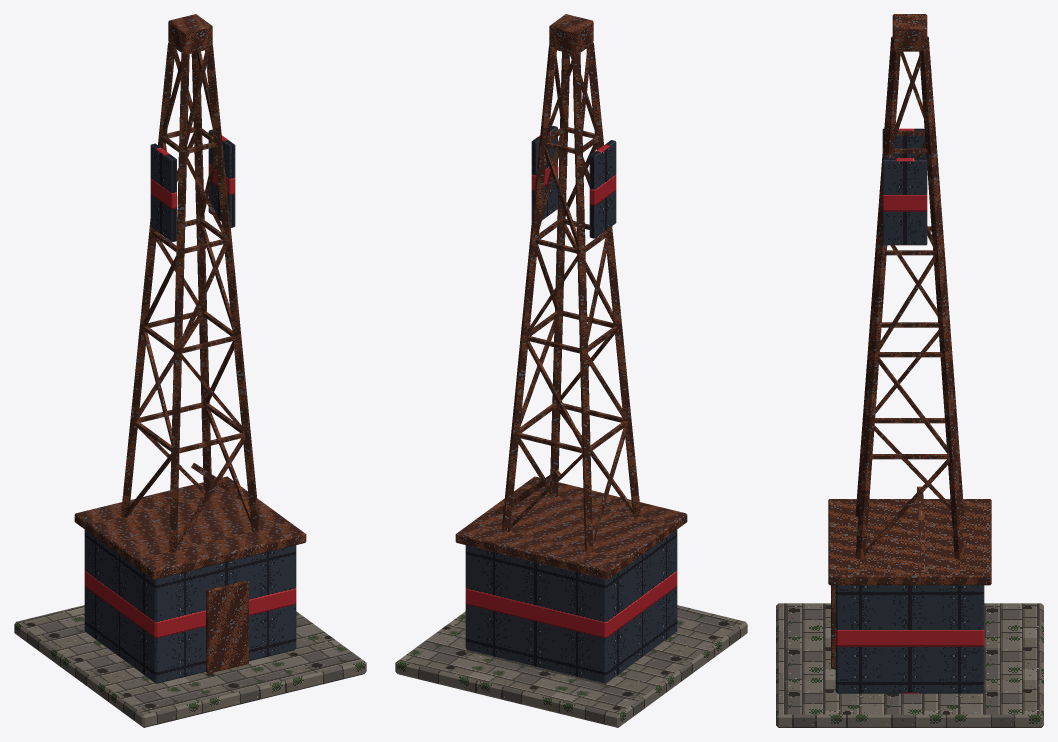
File: furia_antenna.glb
3 views of the same model, side by side, from view 1: azimuth 30°, elevation 25°; view 2: azimuth 150°, elevation 25°; view 3: azimuth 270°, elevation 25° (orthographic). The views are drawn at different scales.
Parts seen in each view (by area): view 1: Antenna; view 2: Antenna; view 3: Antenna.
Boxes of the visible parts, x1,y1,x2,y2 form: Antenna: (14,14,366,727); Antenna: (395,14,747,727); Antenna: (776,14,1043,727).
Bounding box in the file's own units: 5.4 × 14.5 × 5.4.
Materials: 3 (3 with a texture image).
